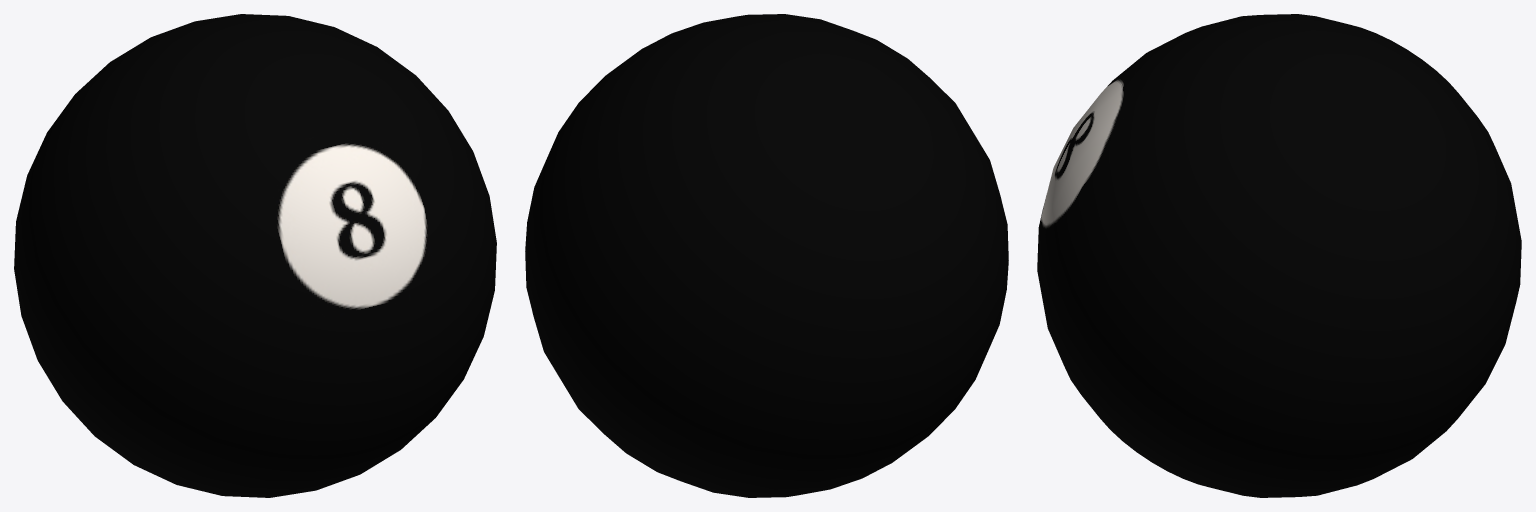
Rendered from ball8.obj.
3 renders of one model, left to right at view 1: azimuth 30°, elevation 25°; view 2: azimuth 150°, elevation 25°; view 3: azimuth 270°, elevation 25°, orthographic.
Visible parts, largest first — view 1: Ball8_Mesh.015; view 2: Ball8_Mesh.015; view 3: Ball8_Mesh.015.
Part boxes in pixels (box(x1,y1,x2,y2)): Ball8_Mesh.015: box(14, 14, 496, 497); Ball8_Mesh.015: box(525, 14, 1008, 497); Ball8_Mesh.015: box(1037, 14, 1521, 497).
Size of the model in its own units: 0.9617 by 0.9597 by 0.9597.
1 material, 1 textured.
